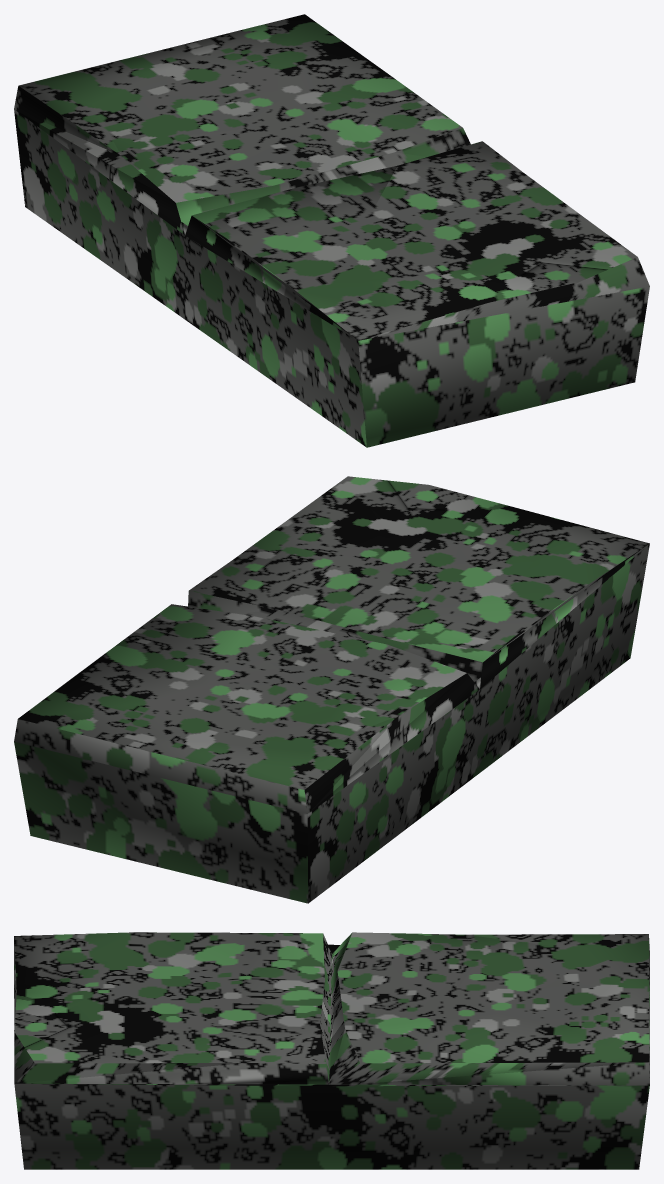
File: floor_2x1.fbx
3 views of the same model, one above another, from view 1: azimuth 30°, elevation 25°; view 2: azimuth 150°, elevation 25°; view 3: azimuth 270°, elevation 25° (orthographic). The views are drawn at different scales.
Visible parts, largest first — view 1: Sewer Floor 1X2; view 2: Sewer Floor 1X2; view 3: Sewer Floor 1X2.
Boxes of the visible parts, left/top/right/bottom form: Sewer Floor 1X2: left=14, top=14, right=649, bottom=447; Sewer Floor 1X2: left=14, top=476, right=649, bottom=903; Sewer Floor 1X2: left=14, top=932, right=649, bottom=1169.
Size of the model in its own units: 2437 by 948 by 4921.
1 material, 1 textured.
